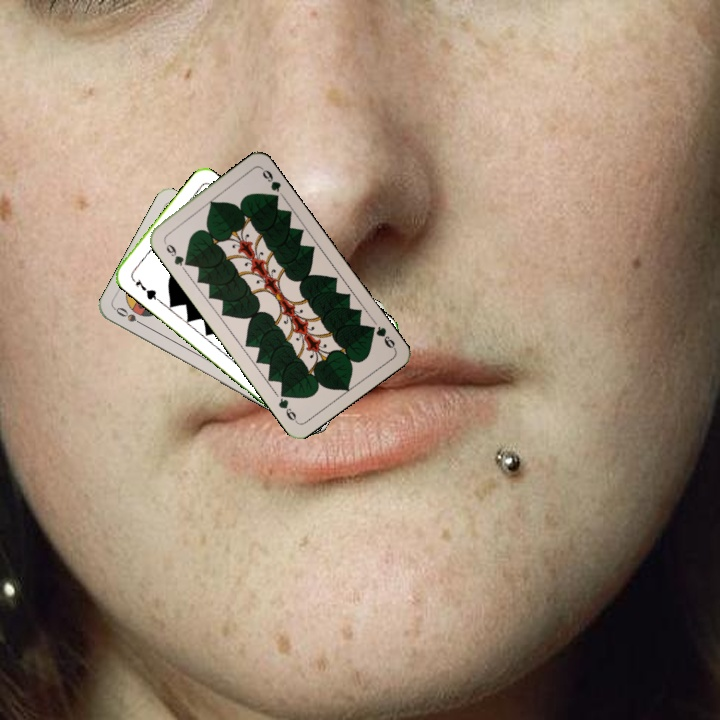G7: (127, 273, 161, 303)
G9: (160, 236, 192, 269), (364, 321, 398, 352)
SO: (111, 303, 148, 329)
